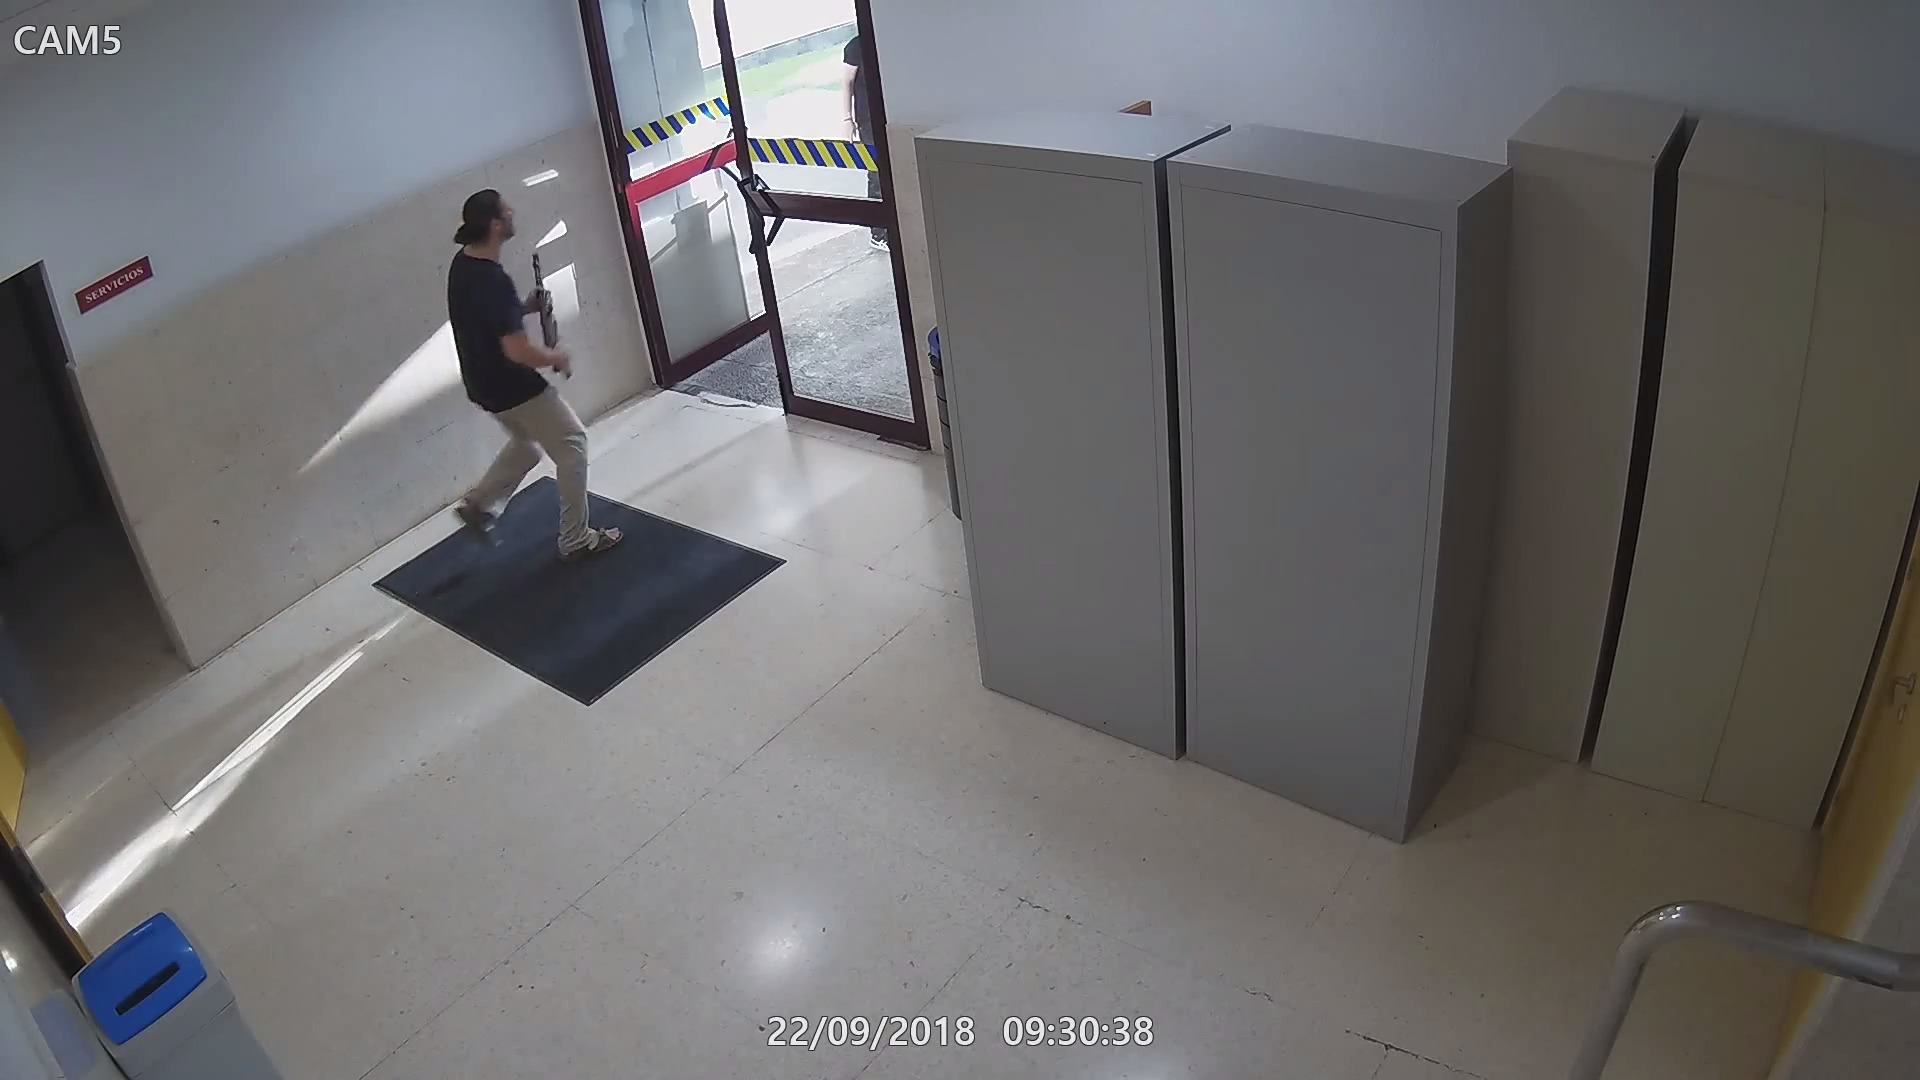Short_rifle: (526, 248, 575, 378)
